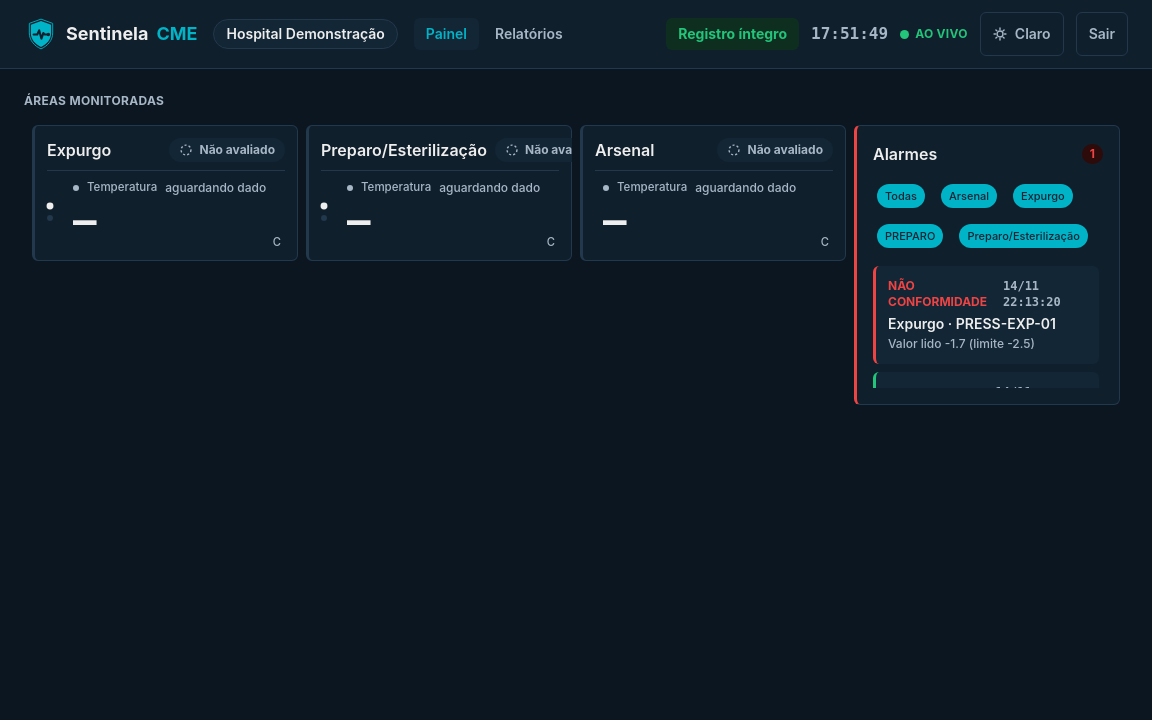
Test case: DashboardPage › drill-down (D3) › clicar no valor do AreaCard (view) abre o SensorDetailDrawer com o sensor certo
Click the text "Temperatura" at (175, 188), box top-left (73, 179), bottom-right (277, 196)
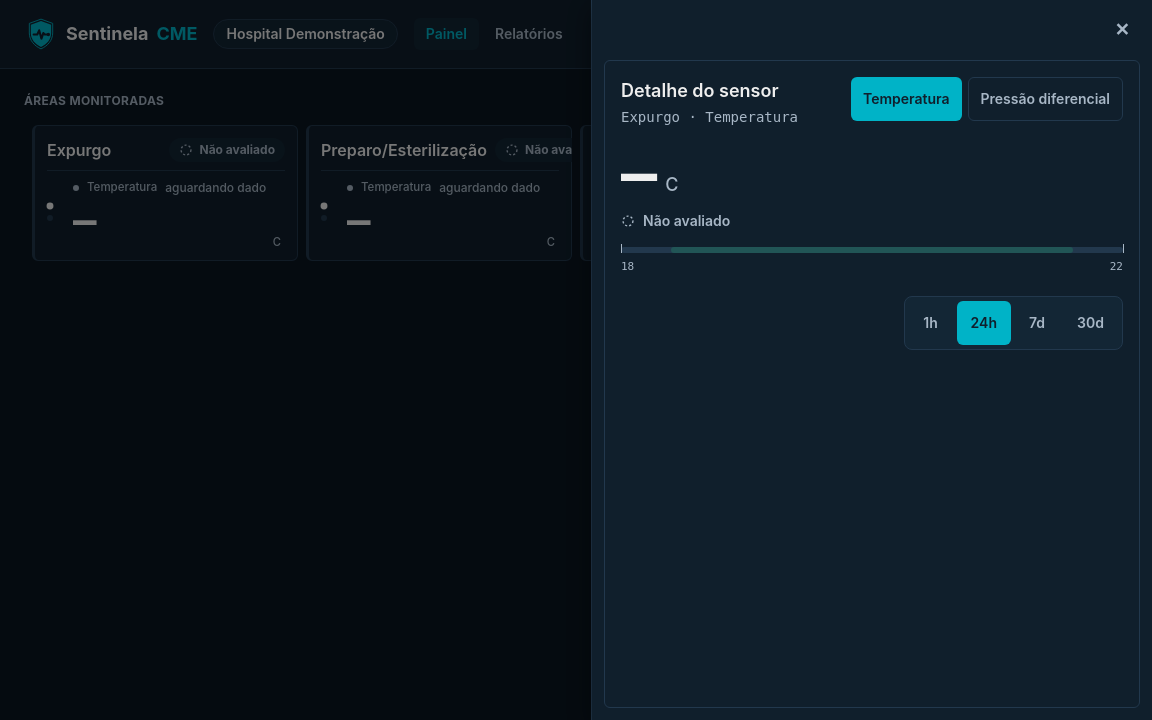
Check: the text "Expurgo · Temperatura" is shown, box top-left (621, 107), bottom-right (798, 127)
